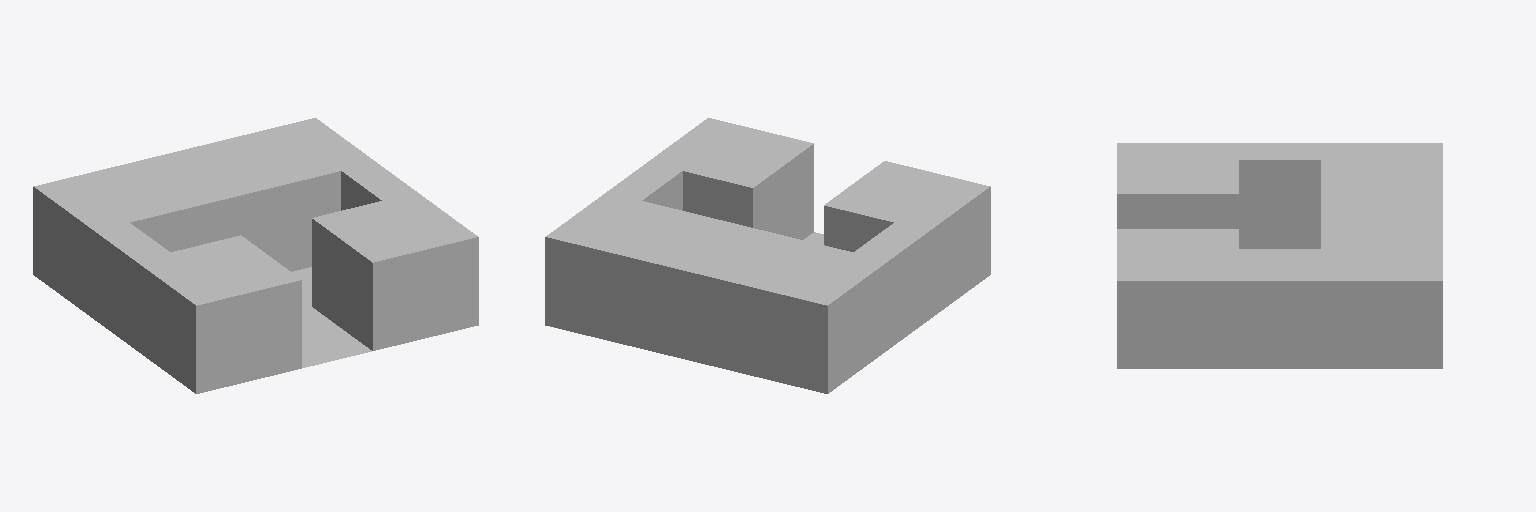
Rendered from Ending.obj.
3 renders of one model, left to right at view 1: azimuth 30°, elevation 25°; view 2: azimuth 150°, elevation 25°; view 3: azimuth 270°, elevation 25°, orthographic.
Visible parts, largest first — view 1: Plane; view 2: Plane; view 3: Plane.
Part boxes in pixels (x1,y1,x2,y2): Plane: (33, 118, 478, 393); Plane: (545, 118, 990, 393); Plane: (1117, 143, 1442, 368).
Size of the model in its own units: 20 by 6 by 20.